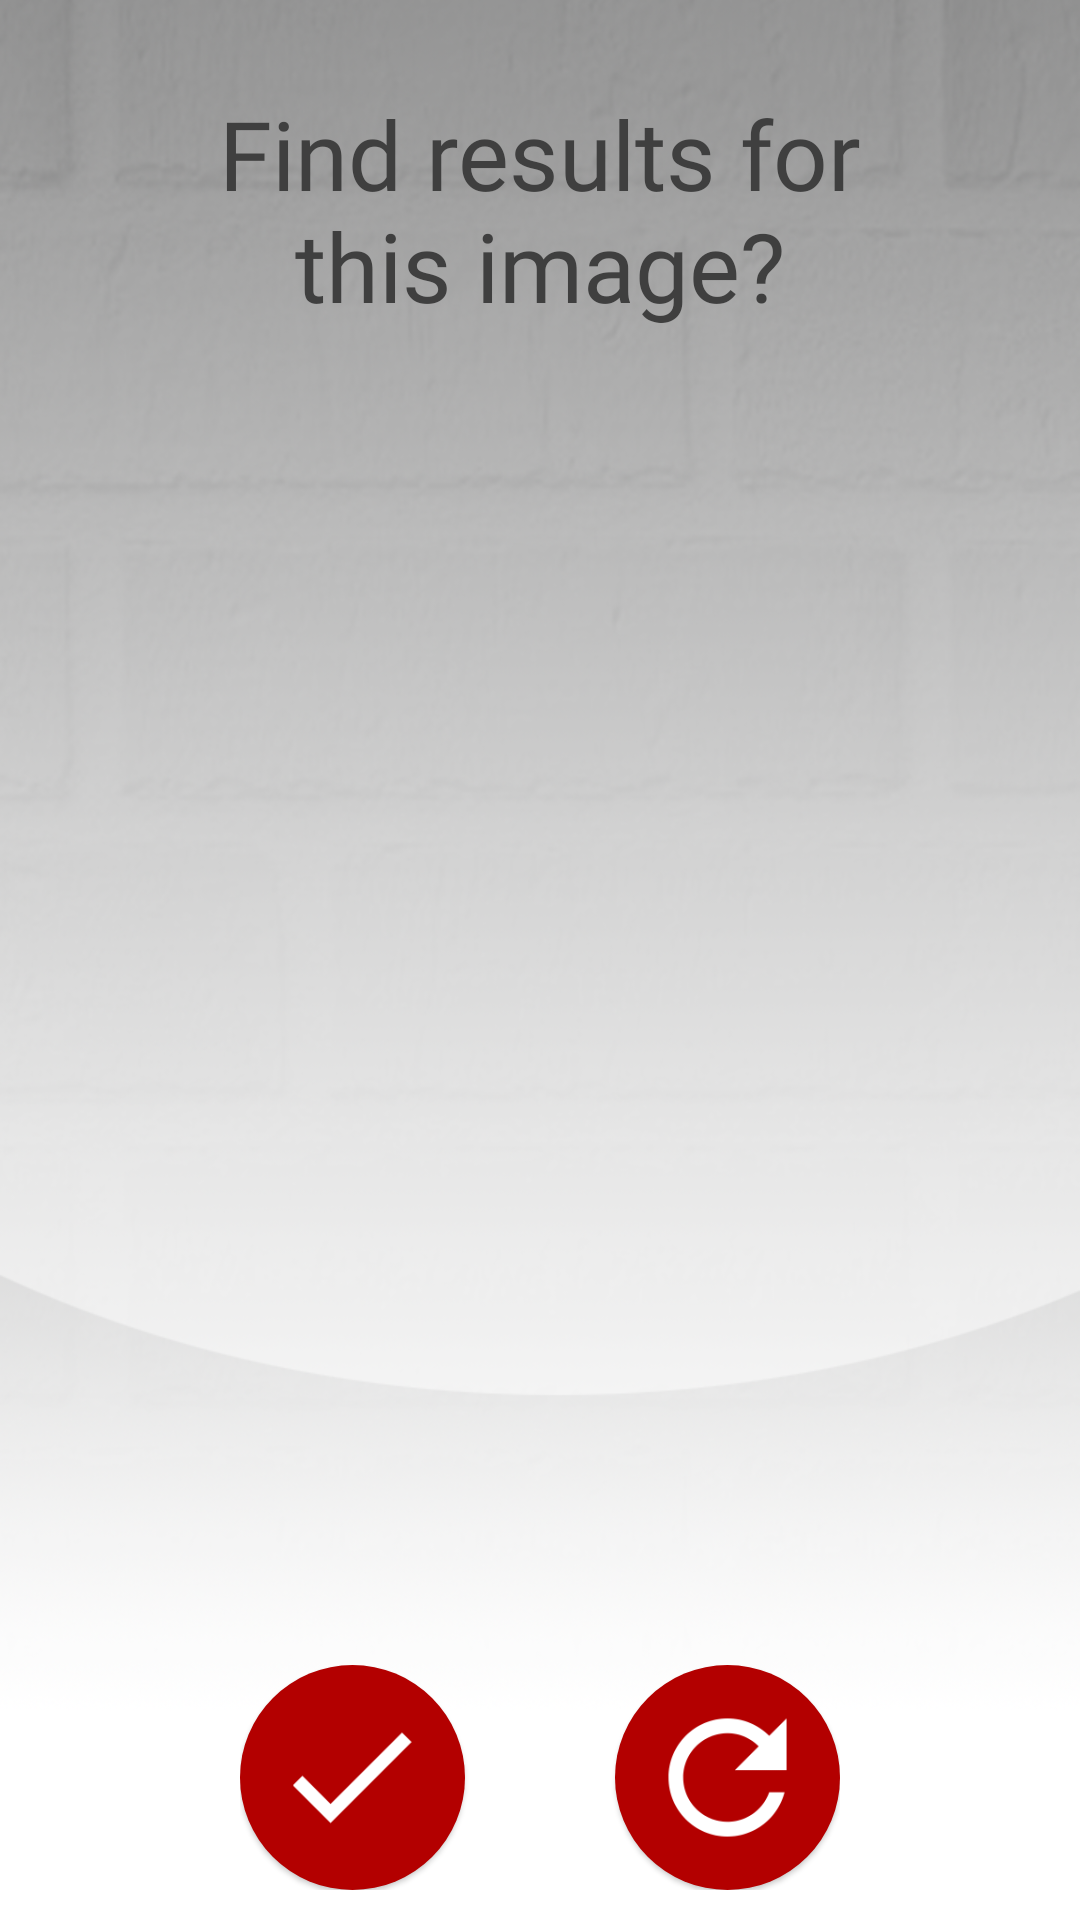

Screen size 1080w x 1920h. Icon name, then its center in pixels as point (x, y):
Accept cropped image: point (352, 1777)
ReCrop image: point (727, 1777)
